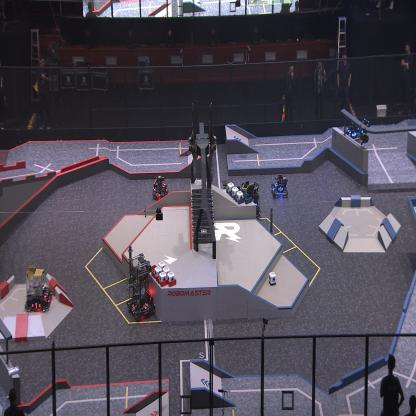car: (126, 251, 156, 321), (23, 264, 52, 314), (237, 180, 260, 224), (342, 113, 364, 145), (151, 173, 170, 201), (270, 173, 288, 199)
